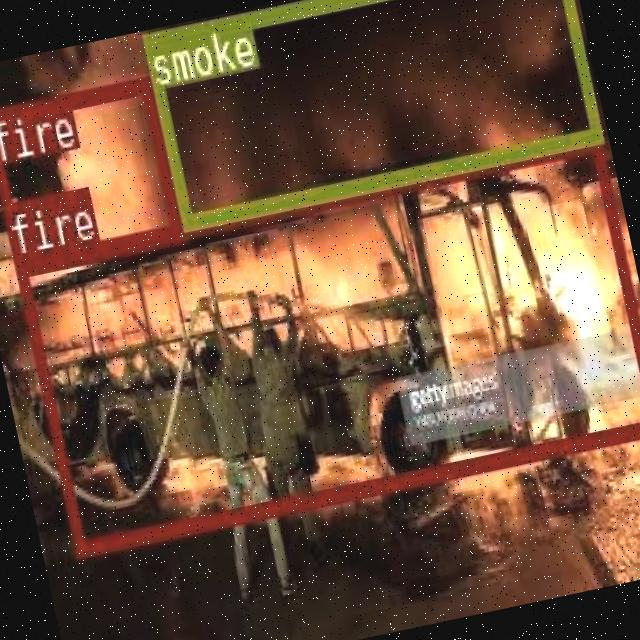fire: (10, 131, 640, 554), (0, 74, 181, 273)
smoke: (140, 0, 601, 227)
